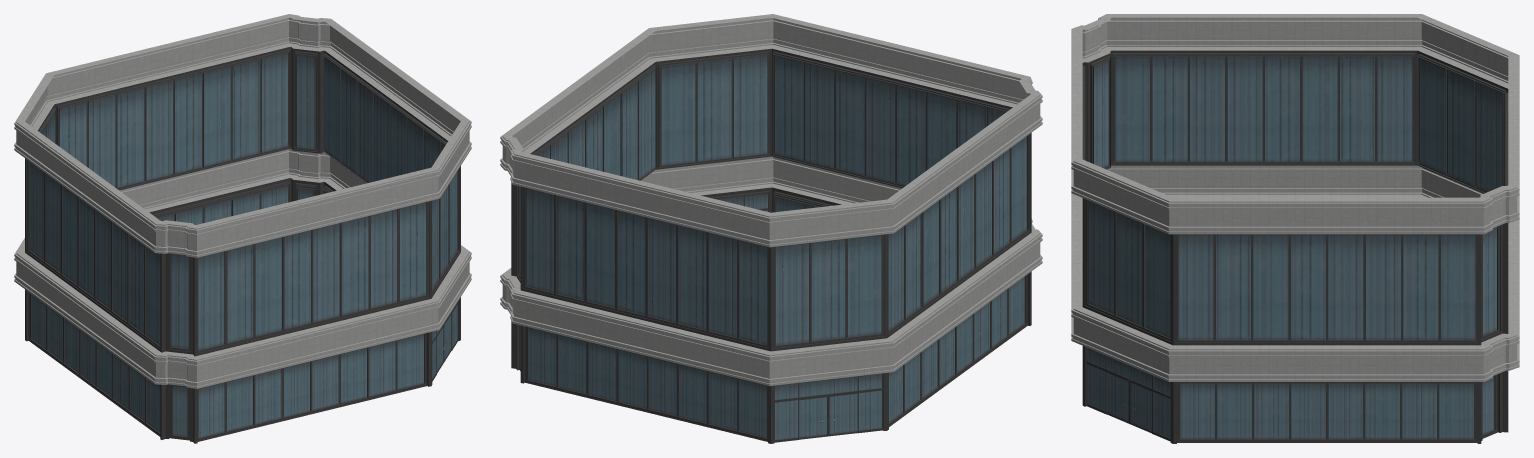
The model's file is jctBld24_C_btm.fbx.
3 views of the same model, side by side, from view 1: azimuth 30°, elevation 25°; view 2: azimuth 150°, elevation 25°; view 3: azimuth 270°, elevation 25° (orthographic). The views are drawn at different scales.
Parts seen in each view (by area): view 1: jctBld24_C_btm_LOD0; view 2: jctBld24_C_btm_LOD0; view 3: jctBld24_C_btm_LOD0.
Part boxes in pixels (<box>): jctBld24_C_btm_LOD0: <box>14,14,471,443</box>; jctBld24_C_btm_LOD0: <box>500,14,1042,443</box>; jctBld24_C_btm_LOD0: <box>1071,14,1519,443</box>.
Bounding box in the file's own units: 2474 × 1500 × 2474.
